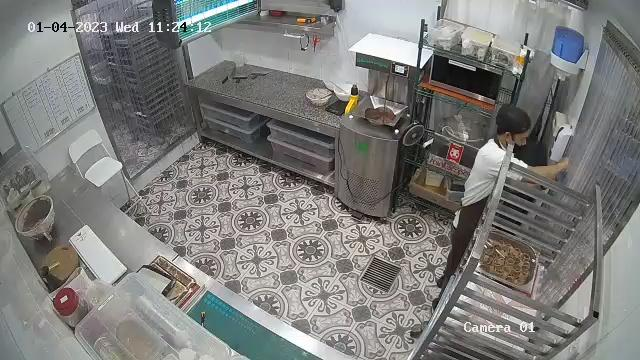apron: (450, 134, 510, 263)
